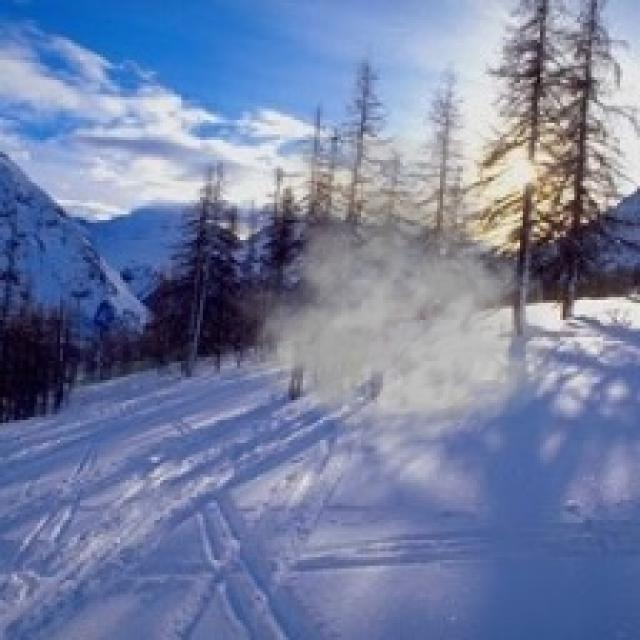Smoke: (220, 102, 566, 448)
